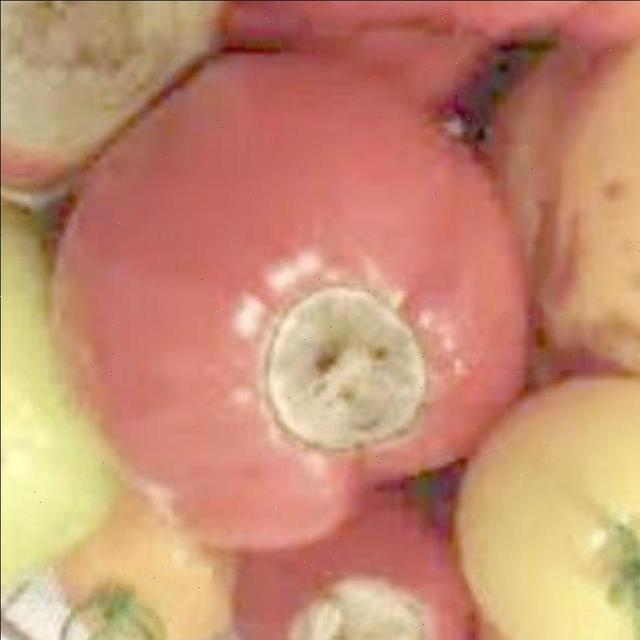Blossom End Rot Fruit: (66, 40, 234, 407)
